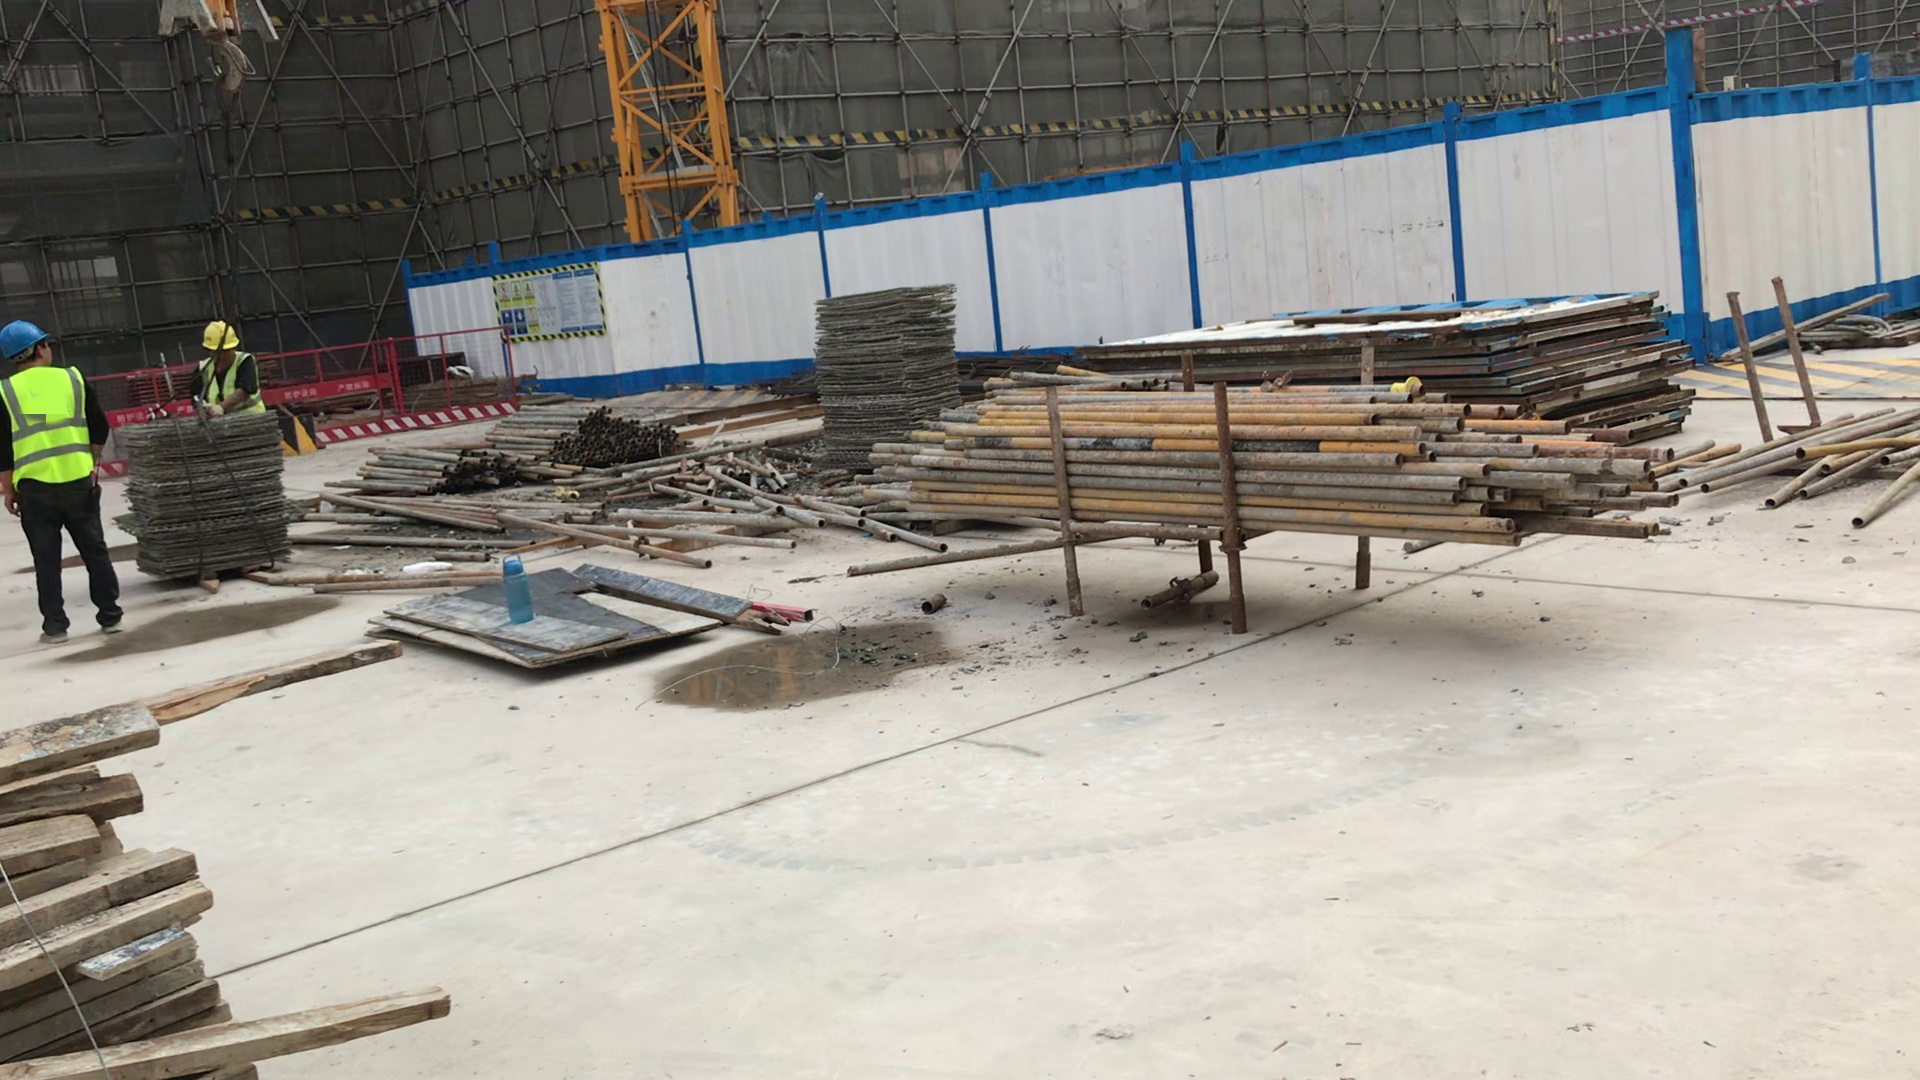fence: (391, 322, 508, 434), (289, 324, 387, 452), (104, 361, 191, 417)
helmet: (2, 319, 46, 363), (204, 321, 240, 350)
hook: (154, 1, 284, 100)
person: (3, 312, 129, 652), (192, 316, 267, 419)
scaffold: (880, 383, 1697, 549), (318, 439, 557, 491), (484, 405, 690, 460)
slogan: (497, 264, 604, 337)
vest: (1, 367, 96, 484), (199, 356, 264, 414)
wood: (1, 642, 450, 1080)
